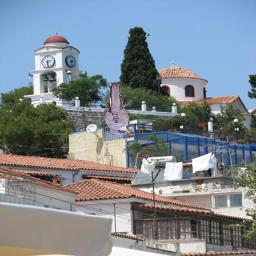Cuckoo: (105, 83, 134, 136)
